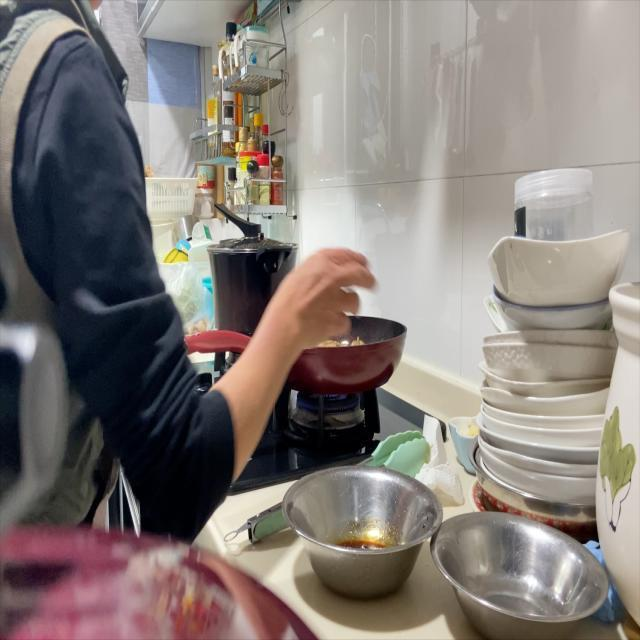Pan: (287, 317, 406, 394)
